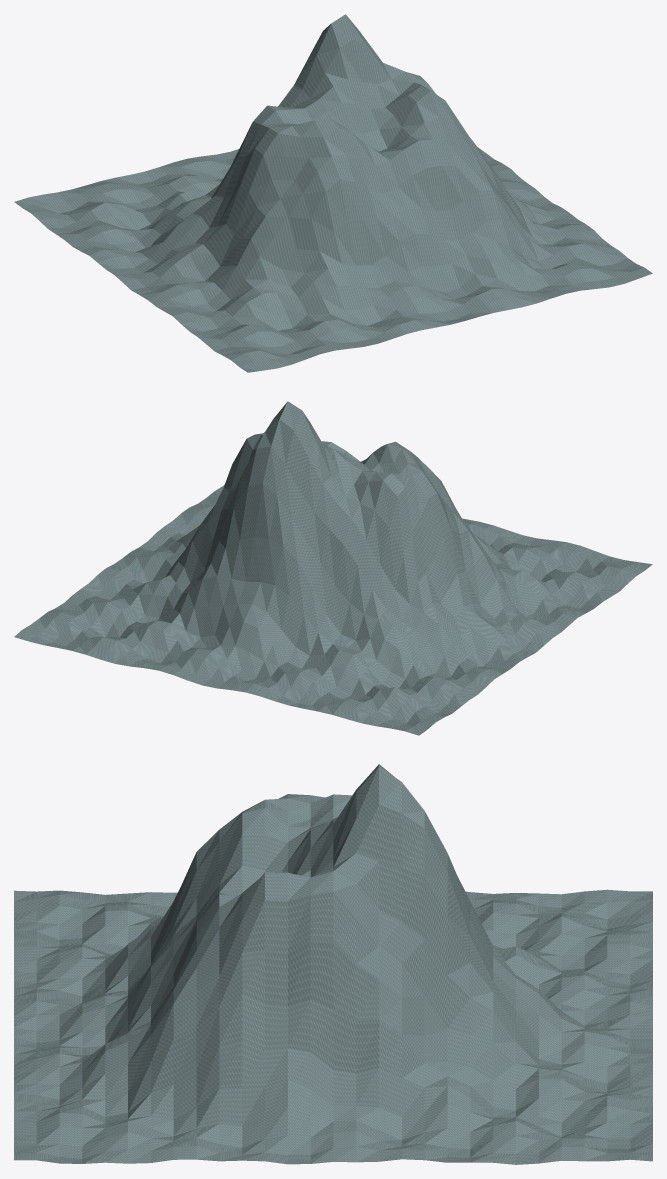
File: distant_mountain_01.glb
3 views of the same model, one above another, from view 1: azimuth 30°, elevation 25°; view 2: azimuth 150°, elevation 25°; view 3: azimuth 270°, elevation 25° (orthographic). The views are drawn at different scales.
Parts seen in each view (by area): view 1: massif; view 2: massif; view 3: massif.
Part boxes in pixels (bbox=[...]): massif: bbox=[14, 14, 652, 372]; massif: bbox=[14, 401, 652, 735]; massif: bbox=[14, 764, 652, 1164].
Bounding box in the file's own units: 220 × 112 × 220.
Materials: 1 (1 with a texture image).
